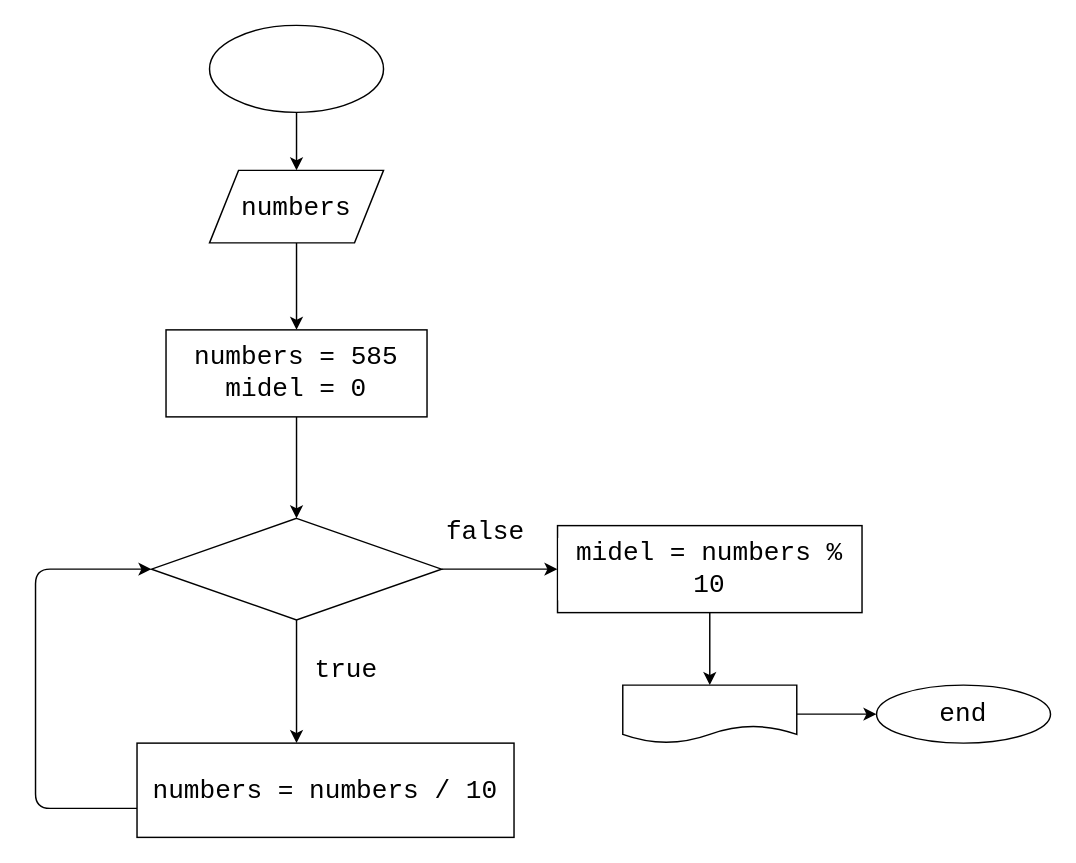
Some shapes in this 1076 by 863 pixel diagram are drawn without their labels. Each missing label, with the centre of its shape:
"midel" belongs at pixel 709 713.
"numbers >= 100" belongs at pixel 296 568.
"start" belongs at pixel 296 68.
